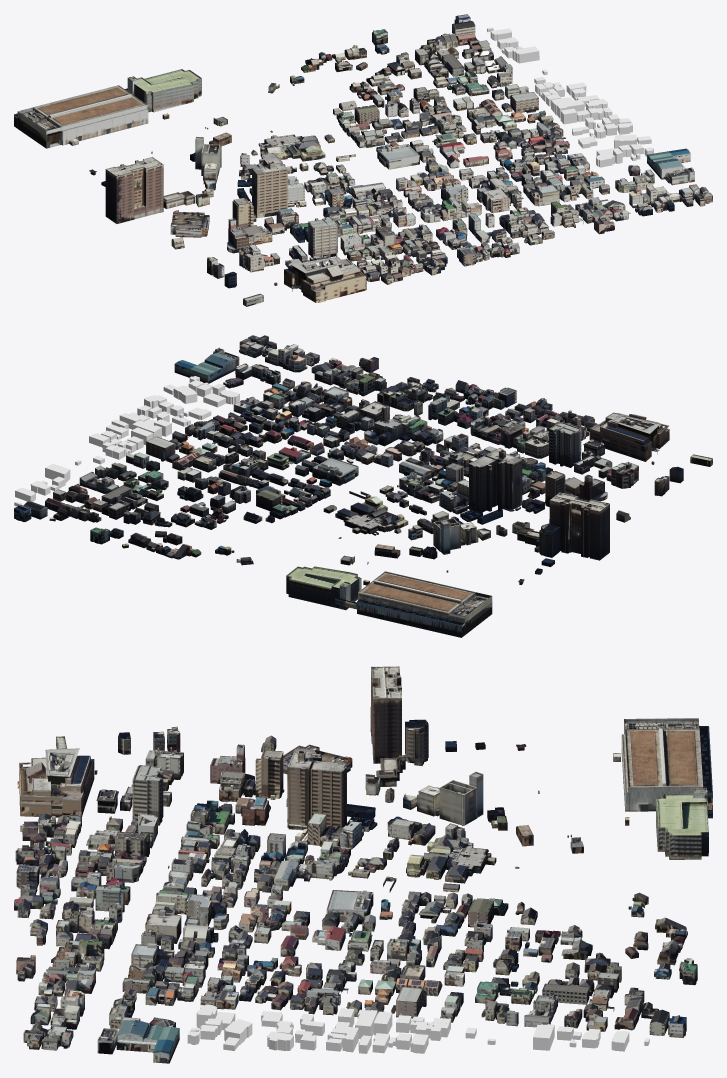
File: 2023-lod3-station-7-2-packed.glb
3 views of the same model, one above another, from view 1: azimuth 30°, elevation 25°; view 2: azimuth 150°, elevation 25°; view 3: azimuth 270°, elevation 25° (orthographic). The views are drawn at different scales.
Size of the model in its own units: 525 by 51.17 by 467.
Materials: 9 (8 with a texture image).
